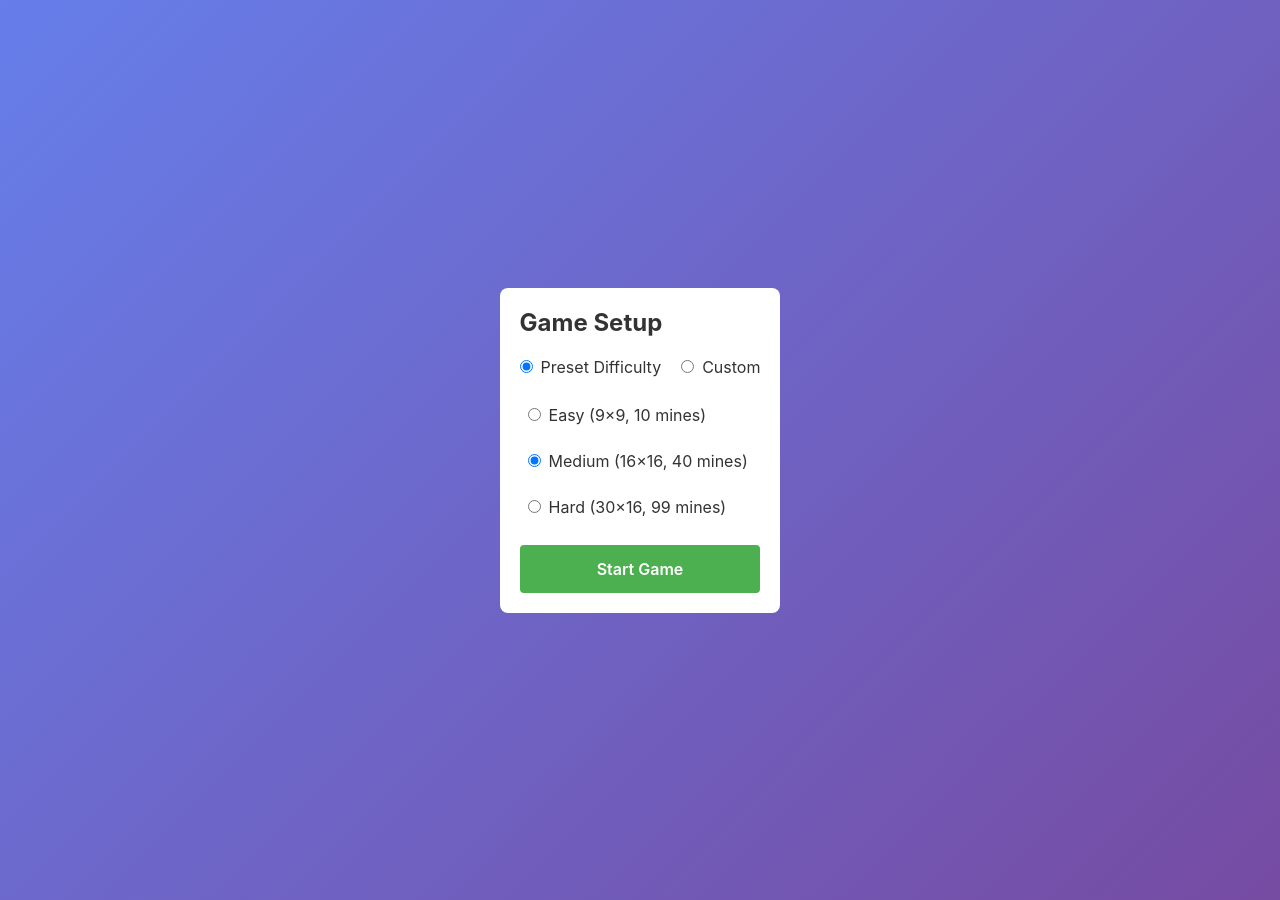
Scenario: Game Component - Integration Tests › 8. Edge Cases › should return to setup when New Game button clicked
What coordinates should you click on to do the following:
click the radio button labelled "Easy (9×9, 10 mines)"
I would click on:
 (534, 414)
Its box is [528,408,541,421].
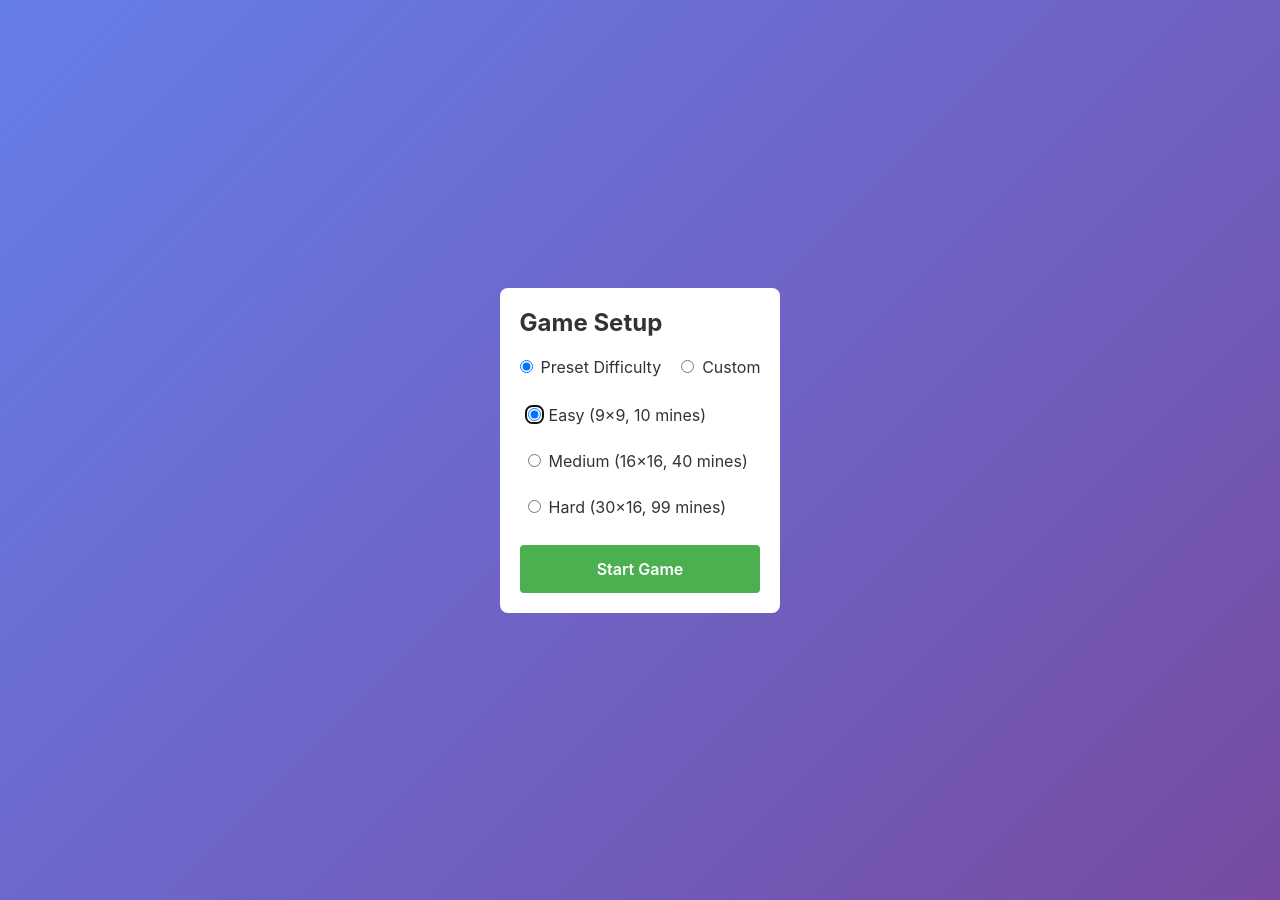
What coordinates should you click on to do the following:
click the button "Start Game"
I would click on:
 (640, 568)
Its box is [520,544,760,592].
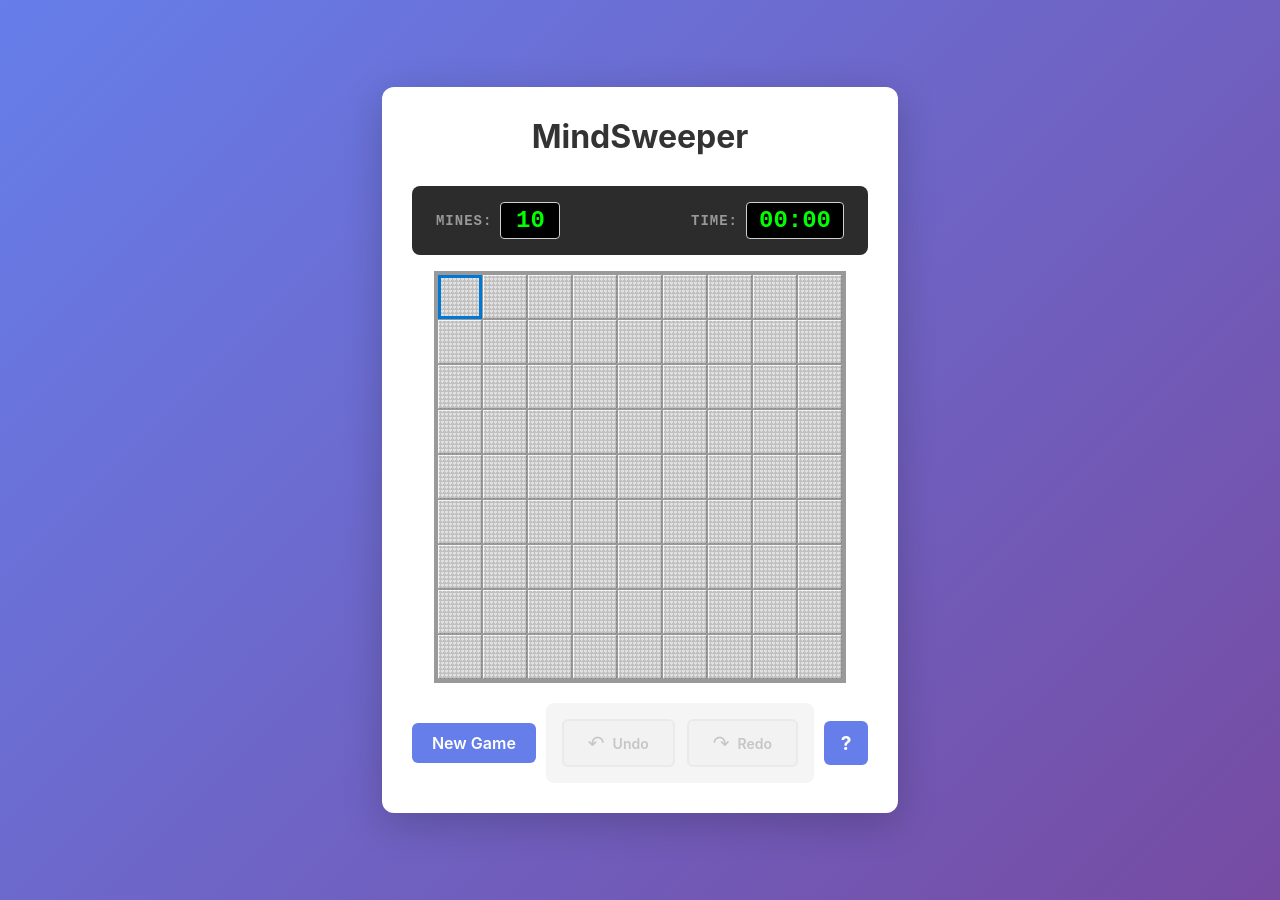
Result: the heading "MindSweeper" is shown at [532,117,748,156]
// Click New Game
What coordinates should you click on to do the following:
click the button "New Game"
I would click on:
 (474, 743)
Its box is [412,723,536,763].
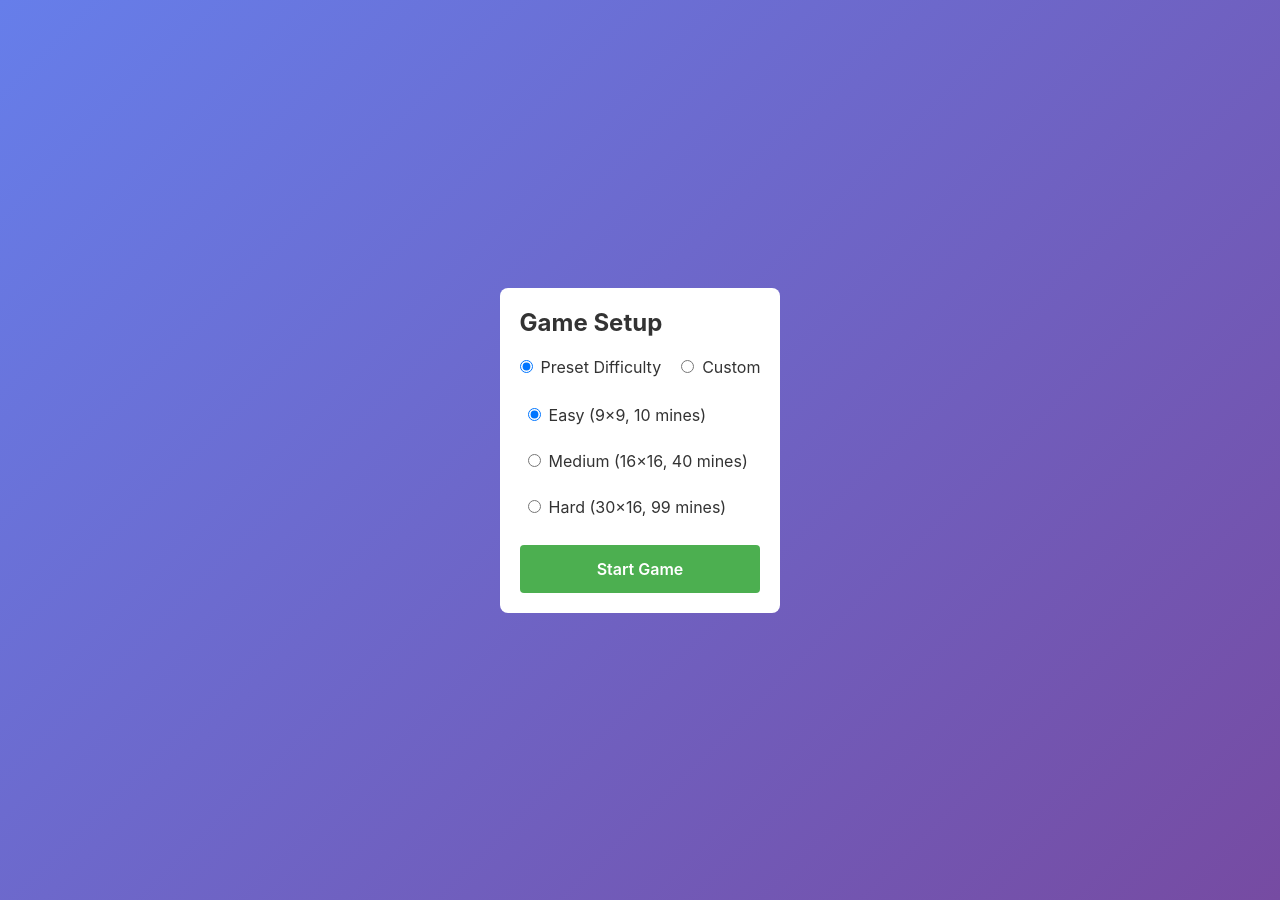
Result: the heading "Game Setup" is shown at [520,308,662,336]
